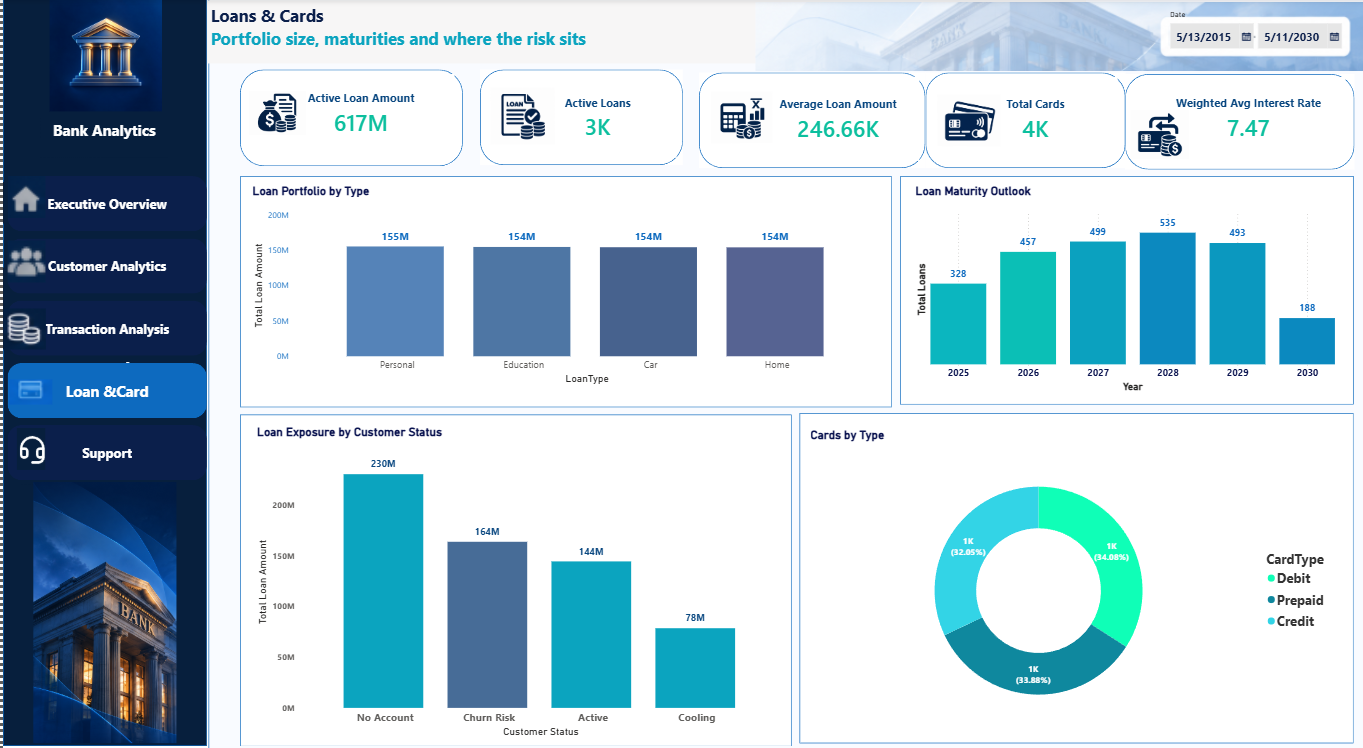

The page's visual inventory and layout, read from the dashboard file:
{"tool":"powerbi","page":{"name":"Loan &Card","canvas":[1948,1078],"ordinal":3},"visuals":[{"type":"shape","box":[0,0,291.7,1068],"z":0},{"type":"shape","box":[293.8,0,1653.5,1076.6],"z":1000},{"type":"image","box":[0,689.5,291.7,373.2],"z":1000,"group":"g10"},{"type":"textbox","box":[291.7,2.1,1256.7,90.1],"z":2000},{"type":"group","id":"g1","title":"Group 1","box":[1282.5,253.1,649.8,326],"z":3000},{"type":"group","id":"g2","title":"Group 2","box":[338.8,253.1,930.8,330.3],"z":4000},{"type":"group","id":"g3","title":"Group 5","box":[338.8,594.1,789.2,474],"z":5000},{"type":"group","id":"g4","title":"Group 6","box":[1138.8,591.9,791.4,474],"z":6000},{"type":"group","id":"g5","title":"Group 7","box":[1604.2,107.2,328.1,136.7],"z":7000},{"type":"group","id":"g6","title":"Group 8","box":[1318.9,105.1,285.9,136.7],"z":8000},{"type":"group","id":"g7","title":"Group 9","box":[995.1,105.1,323.7,136.7],"z":9000},{"type":"shape","box":[338.8,100.8,318.7,138.2],"z":10000,"group":"g9"},{"type":"group","id":"g8","title":"Group 10","box":[682,100.8,290.1,136.7],"z":10000},{"type":"group","id":"g9","title":"Group 11","box":[338.8,100.8,318.7,138.2],"z":11000},{"type":"shape","box":[682,100.8,290.1,136.7],"z":11000,"group":"g8"},{"type":"shape","box":[995.1,105.1,323.7,136.7],"z":12000,"group":"g7"},{"type":"textbox","box":[53.6,167.3,182.2,59.3],"z":12000},{"type":"shape","box":[1318.9,105.1,285.9,136.7],"z":13000,"group":"g6"},{"type":"textbox","box":[0,261.3,224,59.3],"z":13000},{"type":"shape","box":[1604.2,107.2,328.1,136.7],"z":14000,"group":"g5"},{"type":"textbox","box":[26.3,634.5,182.2,59.3],"z":14000},{"type":"textbox","box":[24.2,507.2,182.2,59.3],"z":15000},{"type":"textbox","box":[0,384.2,224,59.3],"z":16000},{"type":"shape","box":[1138.8,591.9,792.3,472.3],"z":16000,"group":"g4"},{"type":"shape","box":[1282.5,253.1,648.7,326.9],"z":17000,"group":"g1"},{"type":"actionButton","box":[4.7,260.5,218.6,58.1],"z":17000},{"type":"actionButton","box":[4.7,365.1,218.6,76.7],"z":18000},{"type":"shape","box":[338.8,594.1,788.8,474.8],"z":18000,"group":"g3"},{"type":"shape","box":[338.8,253.1,932.2,330.9],"z":19000,"group":"g2"},{"type":"actionButton","box":[4.7,507,218.6,58.1],"z":19000},{"type":"actionButton","box":[4.7,607,218.6,88.4],"z":20000},{"type":"group","id":"g10","title":"Group 12","box":[0,689.5,291.7,373.2],"z":21000},{"type":"pageNavigator","box":[6.4,253.1,285.2,435.4],"z":22000},{"type":"image","box":[0,0,293.8,160.8],"z":23000},{"type":"image","box":[1074.4,4.3,872.9,98.7],"z":24000},{"type":"slicer","fields":{"Values":["DimDate.Date"]},"box":[1655.6,10.7,276.7,83.6],"z":25000},{"type":"image","box":[6.4,613.4,67.5,60],"z":26000},{"type":"image","box":[8.6,531.9,62,60],"z":27000},{"type":"cardVisual","fields":{"Data":["calculated_table.Active Loan Amount"]},"box":[378.7,107.6,265.9,113.7],"z":28000,"group":"g9"},{"type":"image","box":[0,441.8,61,60],"z":28000},{"type":"cardVisual","fields":{"Data":["calculated_table.Active Loans"]},"box":[737.8,114.1,225.2,113.7],"z":29000,"group":"g8"},{"type":"image","box":[0,345.1,67.5,60],"z":29000},{"type":"cardVisual","fields":{"Data":["calculated_table.Total Cards"]},"box":[1359.8,111.3,233.8,120.1],"z":30000,"group":"g6"},{"type":"image","box":[0,253.1,67.5,60],"z":30000},{"type":"image","box":[351.2,97.7,81.5,128.7],"z":31000},{"type":"cardVisual","fields":{"Data":["calculated_table.Average Loan Amount"]},"box":[1078.5,111.3,231.6,120.1],"z":31000,"group":"g7"},{"type":"image","box":[697,102.9,92.2,128.7],"z":32000},{"type":"cardVisual","fields":{"Data":["calculated_table.Weighted Avg Interest Rate"]},"box":[1643.3,111.3,276.7,118.6],"z":32000,"group":"g5"},{"type":"image","box":[1012.3,107.2,87.9,124.4],"z":33000},{"type":"image","box":[1336.1,111.5,90.1,124.4],"z":34000},{"type":"image","box":[1609.3,158.1,90.7,69.8],"z":35000},{"type":"columnChart","title":"Loan Portfolio by Type","fields":{"Category":["Loans.LoanType"],"Y":["calculated_table.Total Loan Amount"]},"box":[351.8,264.3,904.6,292],"z":37000,"group":"g2"},{"type":"columnChart","title":"Loan Maturity Outlook","fields":{"Category":["DimDate.Date.Variation.Date Hierarchy.Year","DimDate.Date.Variation.Date Hierarchy.Quarter","DimDate.Date.Variation.Date Hierarchy.Month","DimDate.Date.Variation.Date Hierarchy.Day"],"Y":["calculated_table.Total Loans"]},"box":[1299.9,263.2,609.7,303.6],"z":38000,"group":"g1"},{"type":"columnChart","title":"Loan Exposure by Customer Status","fields":{"Category":["customers.Customer Status"],"Y":["calculated_table.Total Loan Amount"]},"box":[358.2,608.4,757.6,451.5],"z":38001,"group":"g3"},{"type":"donutChart","title":"Cards by Type","fields":{"Y":["calculated_table.Total Cards"],"Category":["Cards.CardType"]},"box":[1150.5,614.3,768.5,434.7],"z":38002,"group":"g4"}]}

Visuals, with their boxes in screenshot pixels (x1, y1, x2, y2), scaled from the page's 1948x1078 canvas onto the 1363x748 screenshot:
shape: detection(0, 0, 204, 741)
shape: detection(206, 0, 1362, 747)
image: detection(0, 478, 204, 737)
textbox: detection(204, 1, 1083, 64)
"Group 1" group: detection(897, 176, 1352, 402)
"Group 2" group: detection(237, 176, 888, 405)
"Group 5" group: detection(237, 412, 789, 741)
"Group 6" group: detection(797, 411, 1351, 740)
"Group 7" group: detection(1122, 74, 1352, 169)
"Group 8" group: detection(923, 73, 1123, 168)
"Group 9" group: detection(696, 73, 923, 168)
shape: detection(237, 70, 460, 166)
"Group 10" group: detection(477, 70, 680, 165)
"Group 11" group: detection(237, 70, 460, 166)
shape: detection(477, 70, 680, 165)
shape: detection(696, 73, 923, 168)
textbox: detection(38, 116, 165, 157)
shape: detection(923, 73, 1123, 168)
textbox: detection(0, 181, 157, 222)
shape: detection(1122, 74, 1352, 169)
textbox: detection(18, 440, 146, 481)
textbox: detection(17, 352, 144, 393)
textbox: detection(0, 267, 157, 308)
shape: detection(797, 411, 1351, 738)
shape: detection(897, 176, 1351, 402)
actionButton: detection(3, 181, 156, 221)
actionButton: detection(3, 253, 156, 307)
shape: detection(237, 412, 789, 742)
shape: detection(237, 176, 889, 405)
actionButton: detection(3, 352, 156, 392)
actionButton: detection(3, 421, 156, 483)
"Group 12" group: detection(0, 478, 204, 737)
pageNavigator: detection(4, 176, 204, 478)
image: detection(0, 0, 206, 112)
image: detection(752, 3, 1362, 71)
slicer - DimDate.Date: detection(1158, 7, 1352, 65)
image: detection(4, 426, 52, 467)
image: detection(6, 369, 49, 411)
cardVisual - calculated_table.Active Loan Amount: detection(265, 75, 451, 154)
image: detection(0, 307, 43, 348)
cardVisual - calculated_table.Active Loans: detection(516, 79, 674, 158)
image: detection(0, 239, 47, 281)
cardVisual - calculated_table.Total Cards: detection(951, 77, 1115, 161)
image: detection(0, 176, 47, 217)
image: detection(246, 68, 303, 157)
cardVisual - calculated_table.Average Loan Amount: detection(755, 77, 917, 161)
image: detection(488, 71, 552, 161)
cardVisual - calculated_table.Weighted Avg Interest Rate: detection(1150, 77, 1343, 160)
image: detection(708, 74, 770, 161)
image: detection(935, 77, 998, 164)
image: detection(1126, 110, 1189, 158)
"Loan Portfolio by Type" columnChart: detection(246, 183, 879, 386)
"Loan Maturity Outlook" columnChart: detection(910, 183, 1336, 393)
"Loan Exposure by Customer Status" columnChart: detection(251, 422, 781, 735)
"Cards by Type" donutChart: detection(805, 426, 1343, 728)
